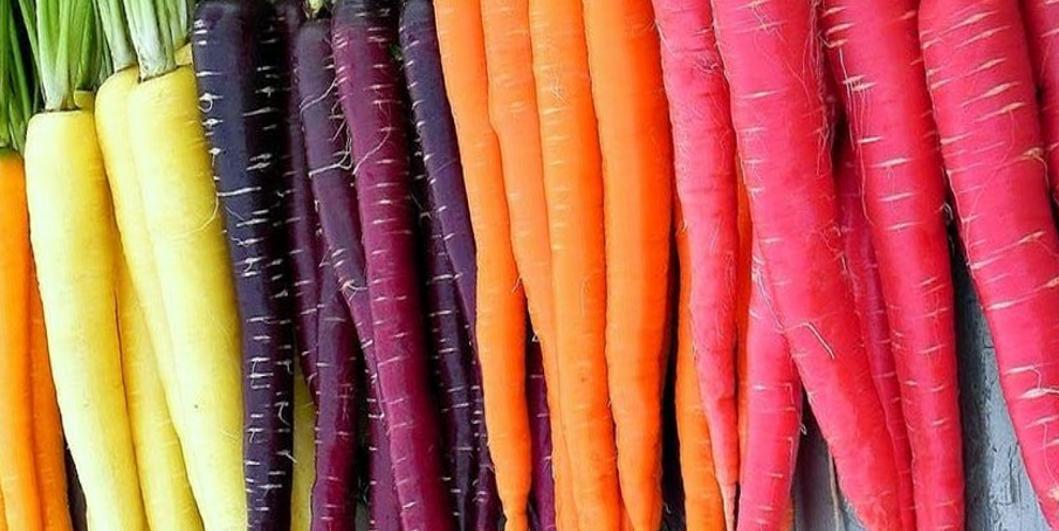carrot: (440, 4, 663, 531), (0, 150, 43, 531)
